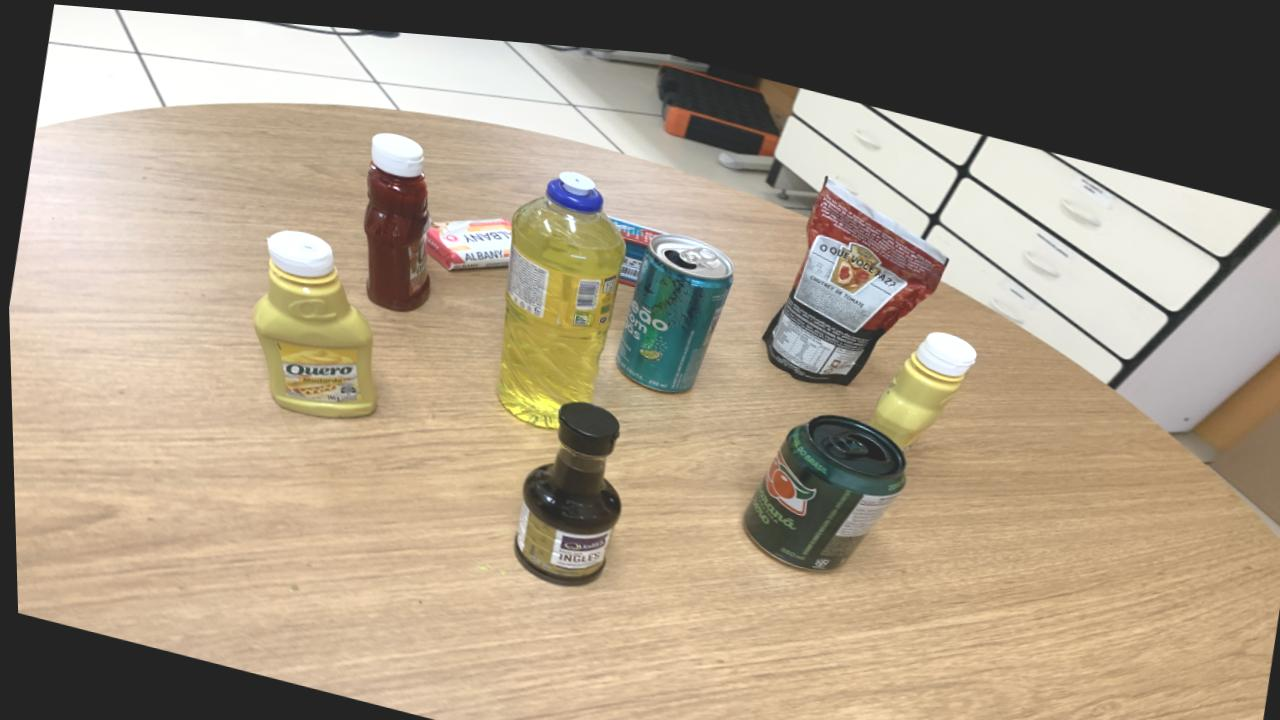Detergent-Cleanup_Items: (494, 161, 623, 419)
English_Sauce-Pantry_Items: (509, 391, 618, 576)
Guarana_Can-Drinks: (740, 400, 903, 556)
Ketchup-Pantry_Items: (361, 126, 429, 304)
Mustard-Pantry_Items: (249, 225, 374, 412), (868, 315, 974, 435)
Soap-Cleanup_Items: (424, 208, 510, 262), (609, 206, 663, 274)
Tea-Drinks: (613, 222, 733, 381)
Tomato_Sauce-Pantry_Items: (760, 164, 945, 370)
